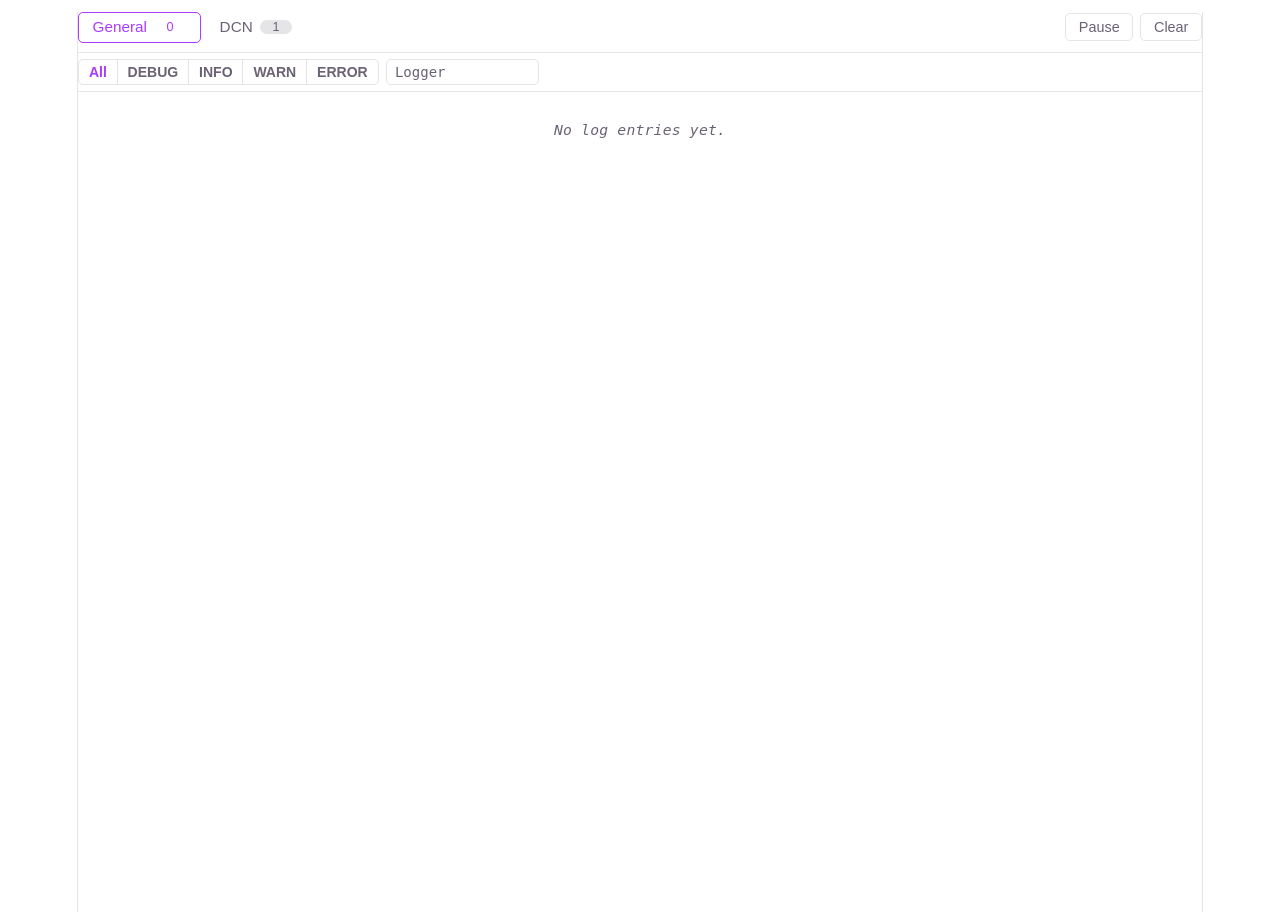
Test: LogView › TX entries have dcn-tx class
Click the button with class "tab" showing "DCN 1" at (256, 27), box [205,12,306,43]
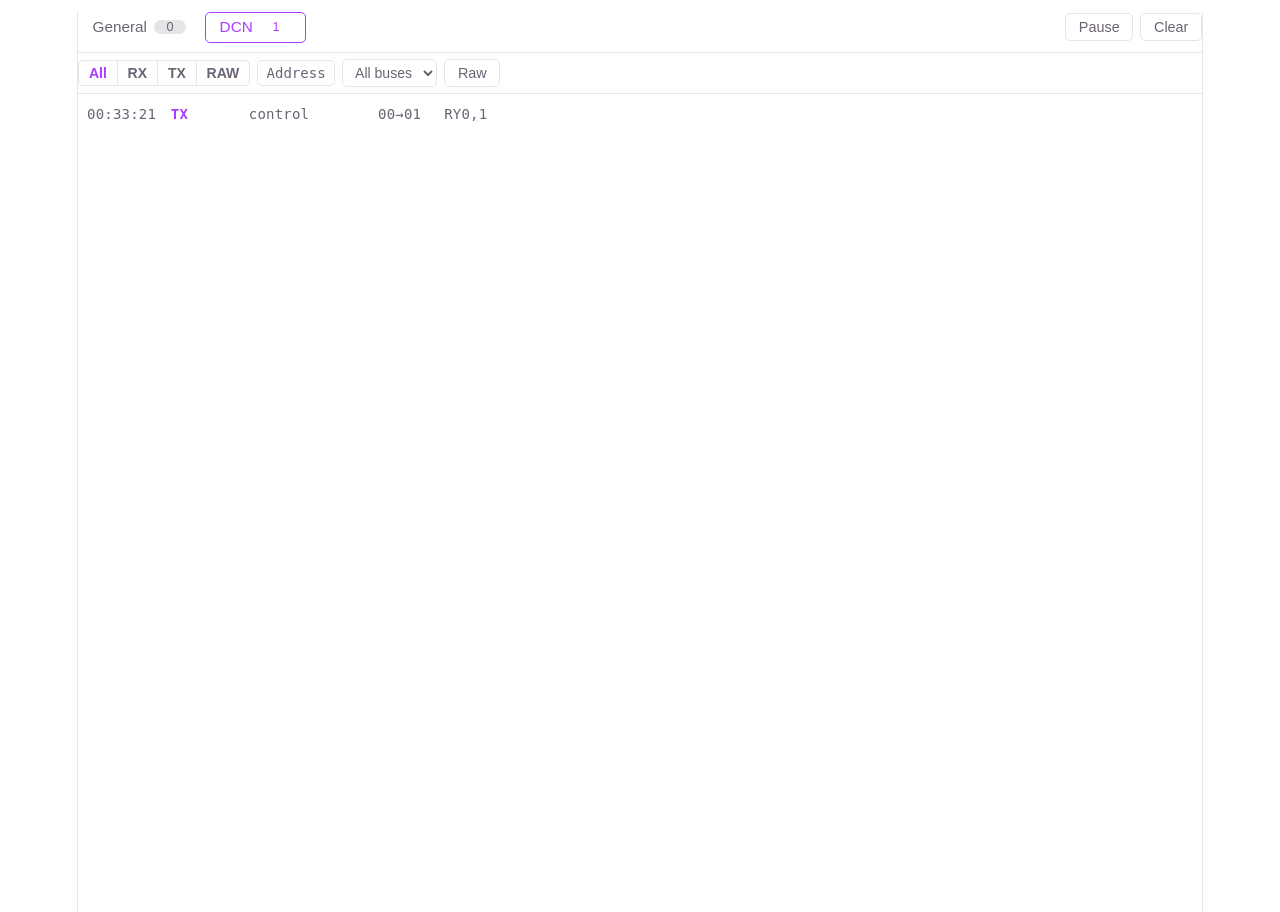
expect the element with class "dcn-tx" is shown: met, box [87,106,487,122]
